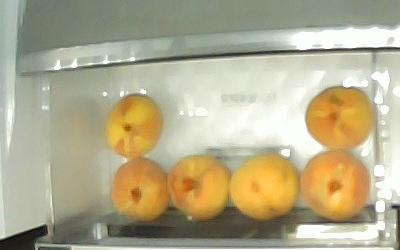peach: (301, 149, 370, 220), (230, 154, 298, 219), (305, 84, 373, 148), (168, 155, 230, 218), (110, 158, 169, 221), (108, 93, 161, 156)
